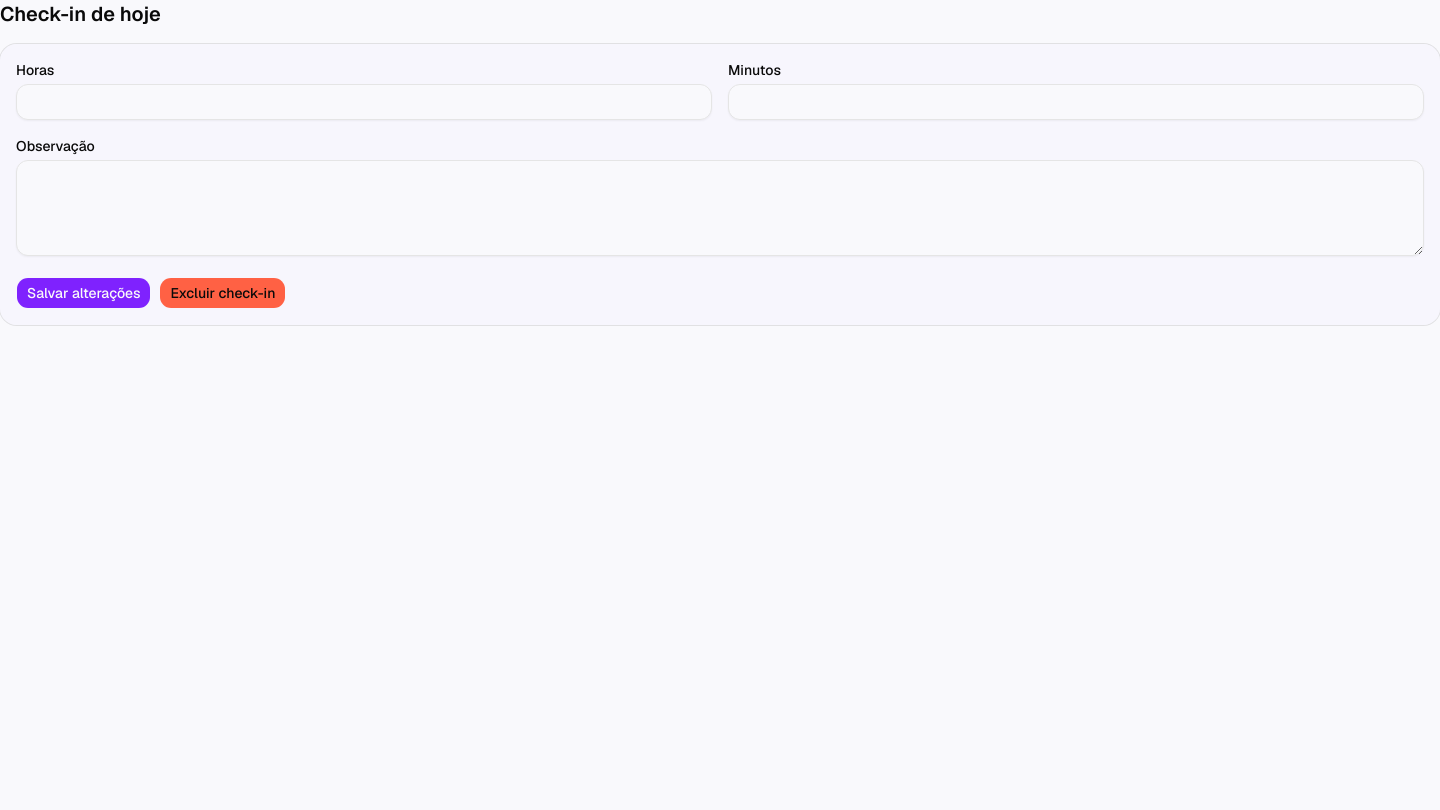
shows the delete confirmation for an existing check-in
This screenshot has width=1440, height=810.
Click the button "Excluir check-in" at x=223, y=293, box x1=160 y1=277 x2=286 y2=309
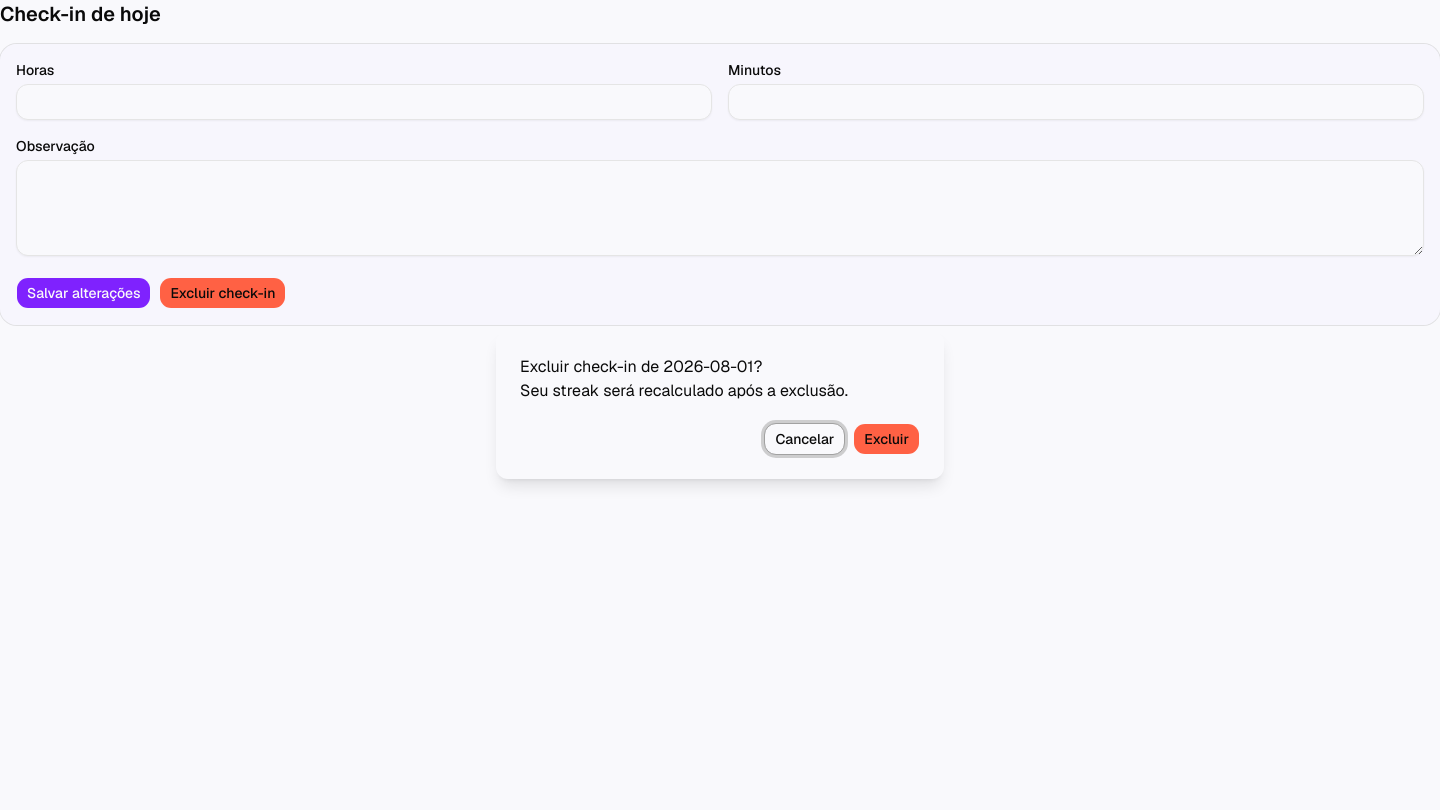
Now the dialog shows "streak será recalculado", box x1=520 y1=380 x2=848 y2=401
